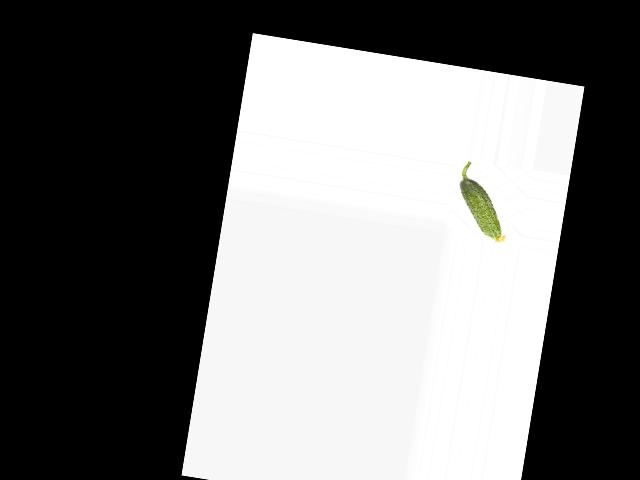cucumber: (451, 161, 517, 244)
